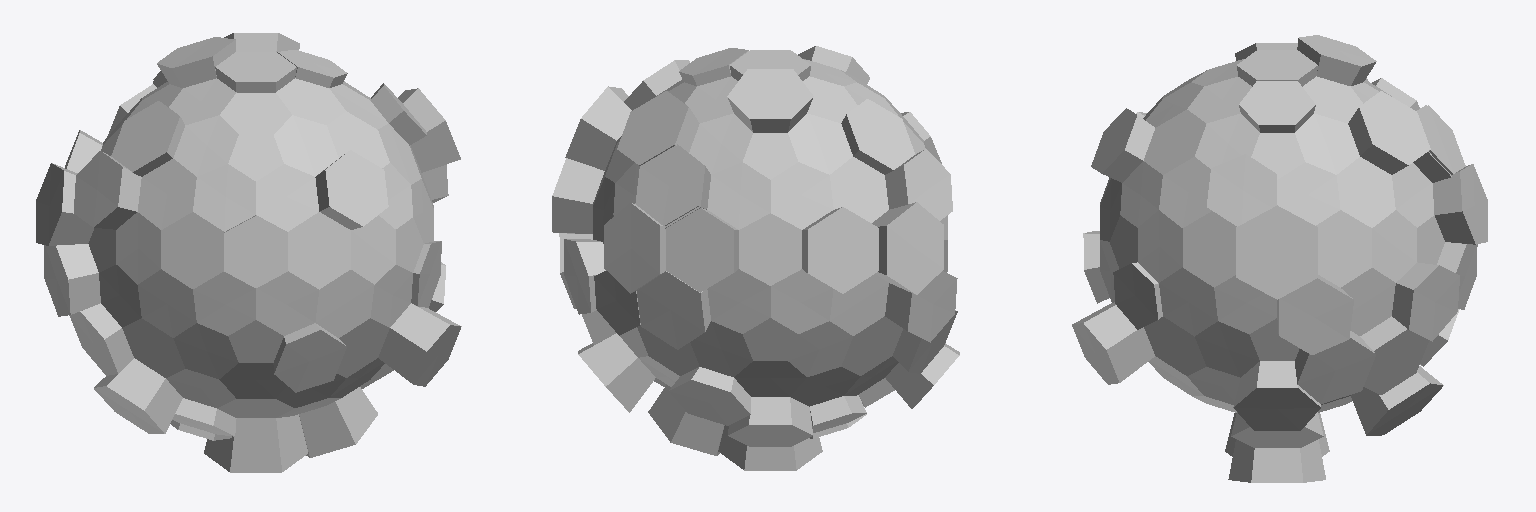
Rendered from Plantet3.obj.
3 renders of one model, left to right at view 1: azimuth 30°, elevation 25°; view 2: azimuth 150°, elevation 25°; view 3: azimuth 270°, elevation 25°, orthographic.
Parts seen in each view (by area): view 1: Plantet1_GD_mesh, Plantet2_GD_mesh.001, Plantet3_GD_mesh.002; view 2: Plantet1_GD_mesh, Plantet3_GD_mesh.002, Plantet2_GD_mesh.001; view 3: Plantet1_GD_mesh, Plantet2_GD_mesh.001, Plantet3_GD_mesh.002.
Boxes of the visible parts, x1,y1,x2,y2 form: Plantet1_GD_mesh: [36, 50, 460, 472]; Plantet2_GD_mesh.001: [153, 33, 461, 386]; Plantet3_GD_mesh.002: [65, 72, 287, 287]; Plantet1_GD_mesh: [552, 46, 959, 470]; Plantet3_GD_mesh.002: [578, 112, 941, 425]; Plantet2_GD_mesh.001: [604, 69, 813, 293]; Plantet1_GD_mesh: [1083, 43, 1477, 482]; Plantet2_GD_mesh.001: [1072, 35, 1487, 384]; Plantet3_GD_mesh.002: [1136, 78, 1459, 435].
Bounding box in the file's own units: 7.33 × 7.35 × 6.88.